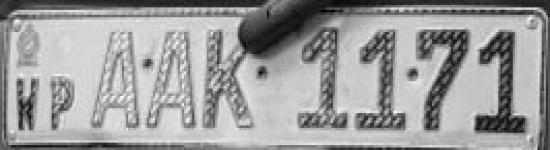1: (471, 25, 533, 139), (295, 18, 352, 139), (354, 22, 412, 138)
7: (412, 21, 472, 142)
A: (142, 22, 198, 133), (90, 27, 142, 132)
K: (200, 25, 261, 139)
P: (46, 66, 80, 138)
W: (13, 70, 42, 135)
